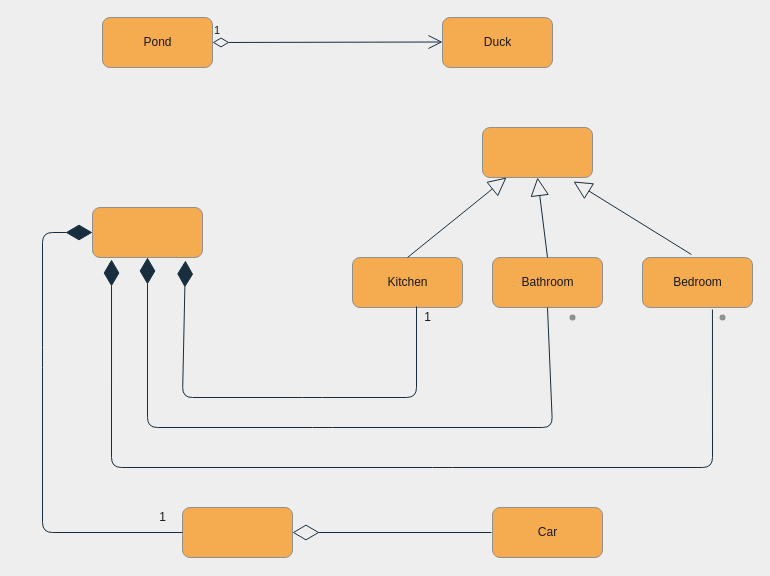
The diagram is 770 pixels wide and 576 high, and some of its shapes have lost their labels. Each missing label, with the centre of its shape:
"Garage" goes at point 237,532.
"House" goes at point 147,232.
"Room" goes at point 537,152.
